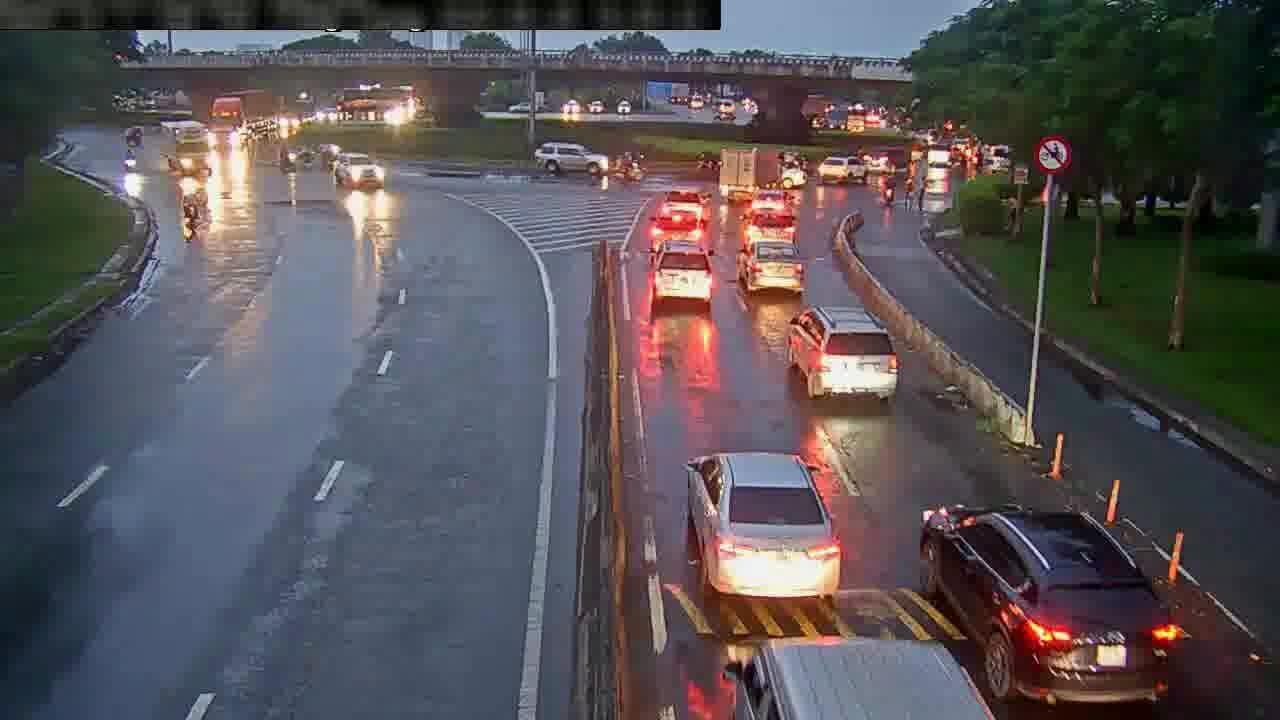14: (725, 638, 986, 720)
8: (720, 141, 809, 194), (159, 118, 214, 177)
container: (925, 497, 1181, 700), (687, 451, 842, 598), (791, 308, 895, 405), (651, 238, 720, 314), (736, 237, 809, 302), (533, 138, 608, 172), (324, 151, 389, 190), (747, 209, 803, 245), (819, 152, 873, 188), (651, 208, 707, 242), (660, 182, 714, 212), (752, 187, 797, 213)
motorbike: (173, 186, 202, 249), (876, 170, 895, 205)
